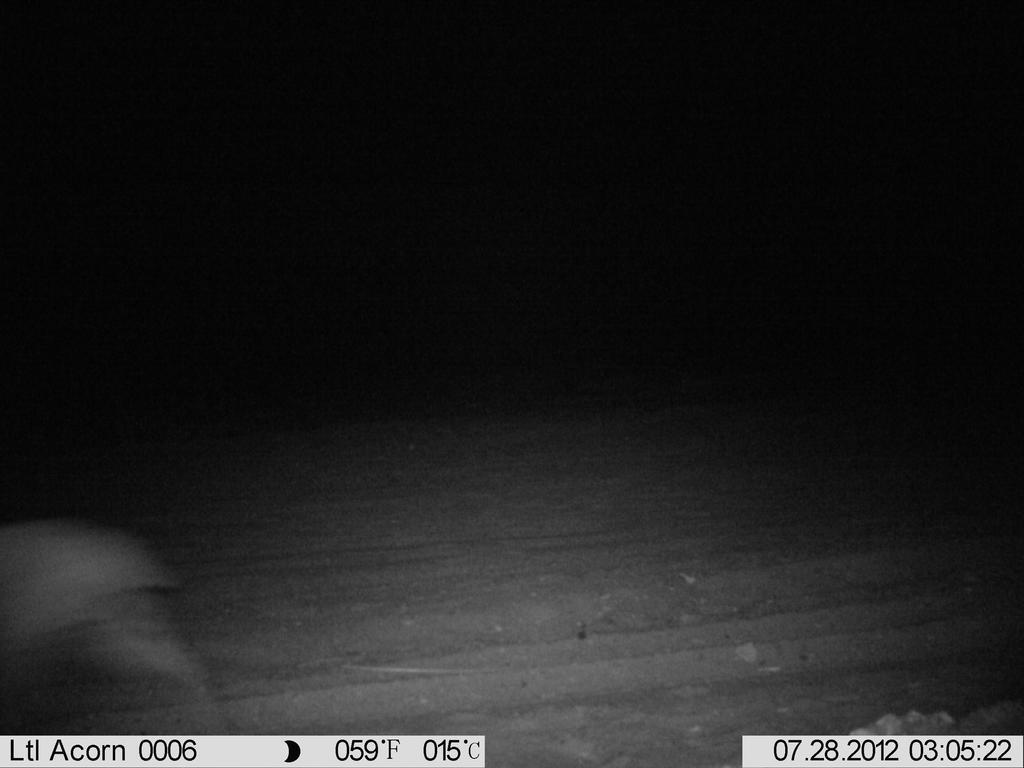bobcat: (3, 491, 227, 688)
